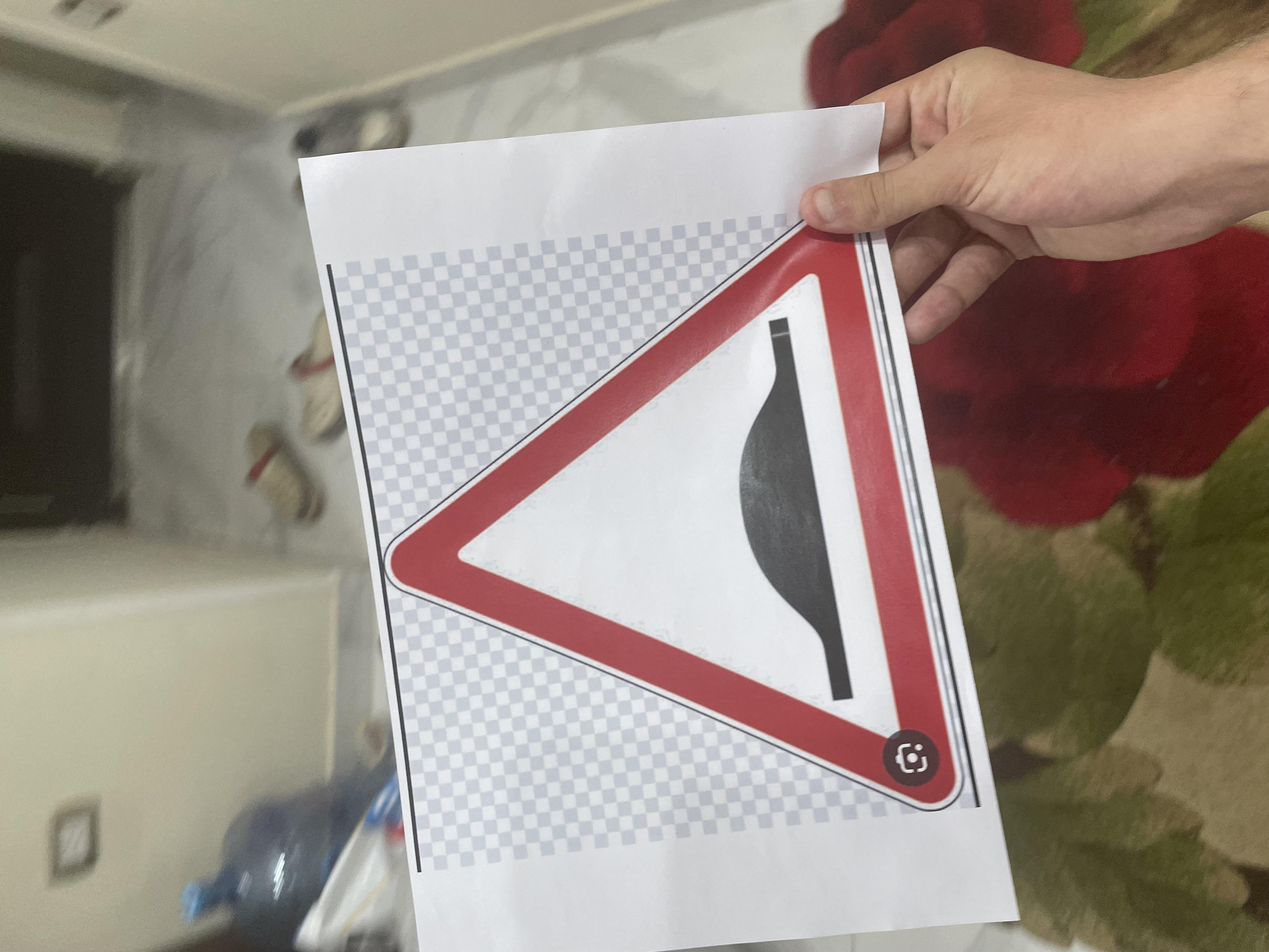Hump: (190, 281, 966, 723)
